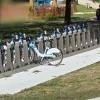Bicycle: (21, 24, 66, 74)
